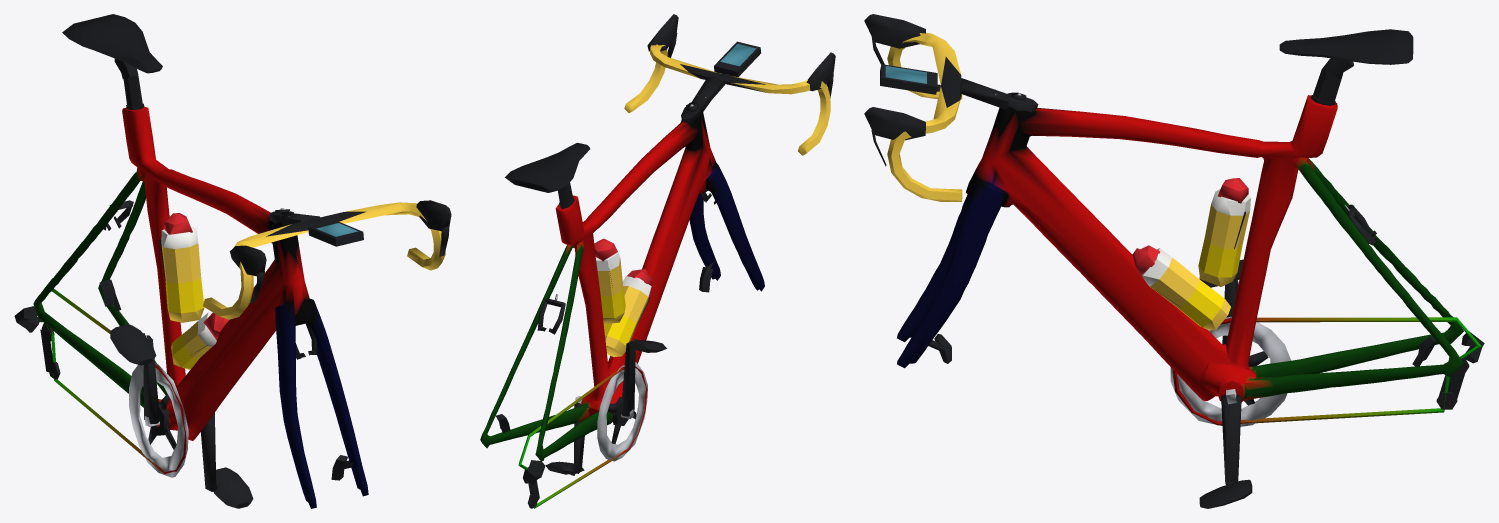
The model's file is madone_lod1.glb.
3 renders of one model, left to right at view 1: azimuth 30°, elevation 25°; view 2: azimuth 150°, elevation 25°; view 3: azimuth 270°, elevation 25°, orthographic. The views are drawn at different scales.
Parts seen in each view (by area): view 1: frame, cockpit, opt_bottles, crankset, saddle, pedal_R, pedal_L, opt_derailleur, opt_brakes_disc, opt_brakes_rim; view 2: frame, cockpit, opt_bottles, crankset, saddle, opt_derailleur, opt_brakes_rim, opt_brakes_disc; view 3: frame, cockpit, opt_bottles, crankset, saddle, opt_derailleur, pedal_L, opt_brakes_disc.
Part boxes in pixels (x1,y1,x2,y2): frame: [33, 106, 368, 508]; cockpit: [203, 200, 451, 319]; opt_bottles: [159, 213, 228, 370]; crankset: [129, 335, 216, 491]; saddle: [62, 14, 162, 109]; pedal_R: [110, 324, 156, 365]; pedal_L: [213, 467, 253, 508]; opt_derailleur: [14, 306, 60, 379]; opt_brakes_disc: [99, 279, 353, 480]; opt_brakes_rim: [103, 200, 317, 359]; frame: [480, 111, 764, 508]; cockpit: [624, 14, 835, 155]; opt_bottles: [594, 238, 652, 356]; crankset: [573, 341, 647, 473]; saddle: [505, 143, 590, 208]; opt_derailleur: [523, 460, 545, 508]; opt_brakes_rim: [537, 192, 716, 334]; opt_brakes_disc: [496, 261, 714, 432]; frame: [897, 95, 1481, 425]; cockpit: [864, 14, 1038, 201]; opt_bottles: [1132, 178, 1250, 330]; crankset: [1170, 280, 1290, 484]; saddle: [1279, 29, 1413, 105]; opt_derailleur: [1436, 331, 1484, 409]; pedal_L: [1199, 479, 1252, 508]; opt_brakes_disc: [928, 334, 1436, 367].
Size of the model in its own units: 0.4652 by 0.885 by 1.13.
